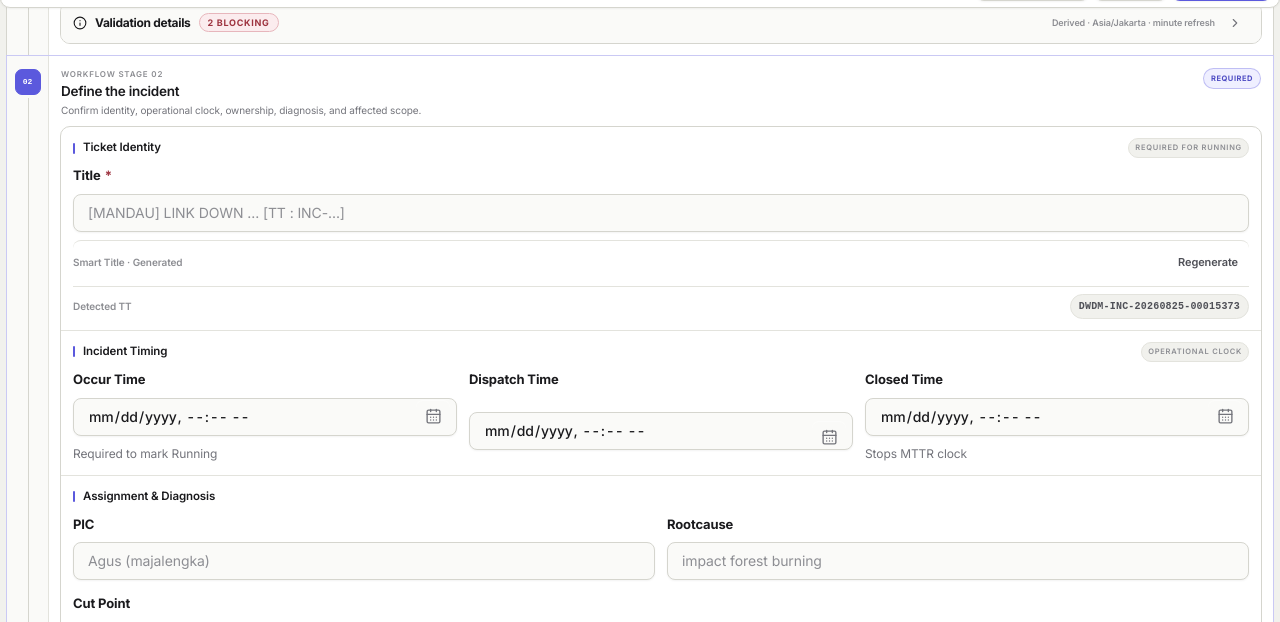
Template Generator Smart Title state › regenerates from structured metadata and switches to manual override after title editing
The image size is (1280, 622).
(page scrolled)
Expected: the text "Smart Title · Generated" is shown, [73,255,182,270]
Click the button "Regenerate" at {"x": 1208, "y": 263}, box [1167,248,1249,278]
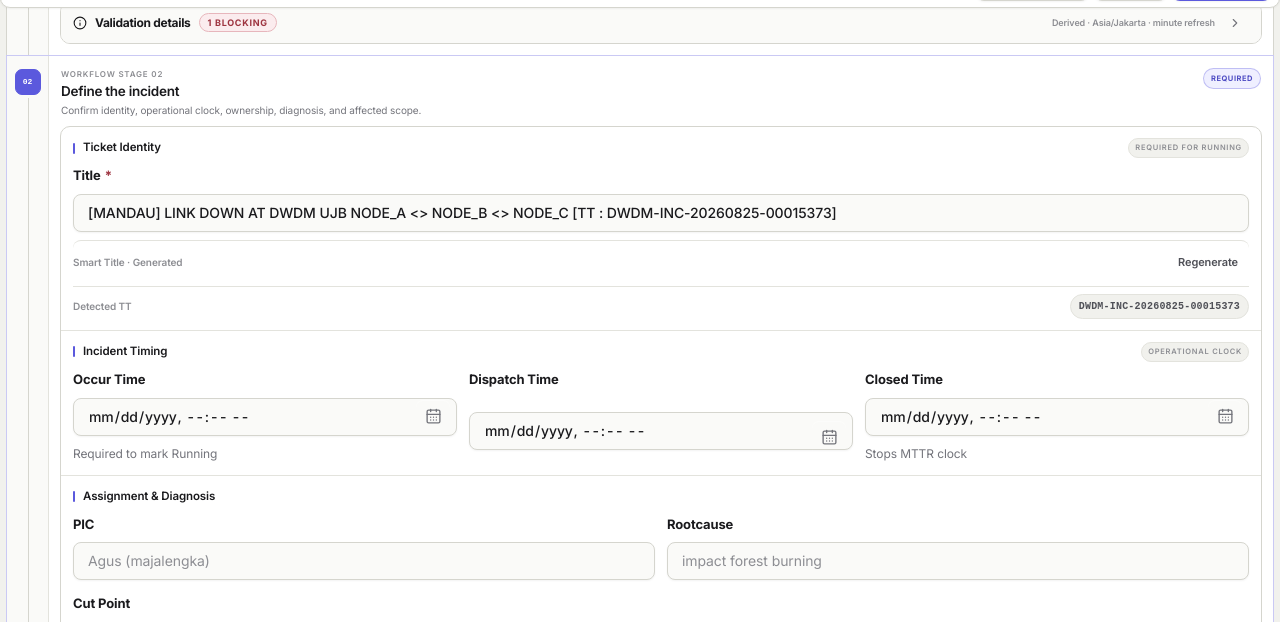
Expected: the text "Smart Title · Generated" is shown, [73,255,182,270]
Now the field labelled "Title*" holds "[MANDAU] LINK DOWN AT DWDM UJB NODE_A <> NODE_B <> NODE_C [TT : DWDM-INC-20260825-00015373]"
Replace the text in the field labelled "Title*" with "[MANDAU] MANUAL OPERATOR TITLE [TT : INC-20260826-00000054]" at {"x": 661, "y": 213}, box [73,194,1249,232]
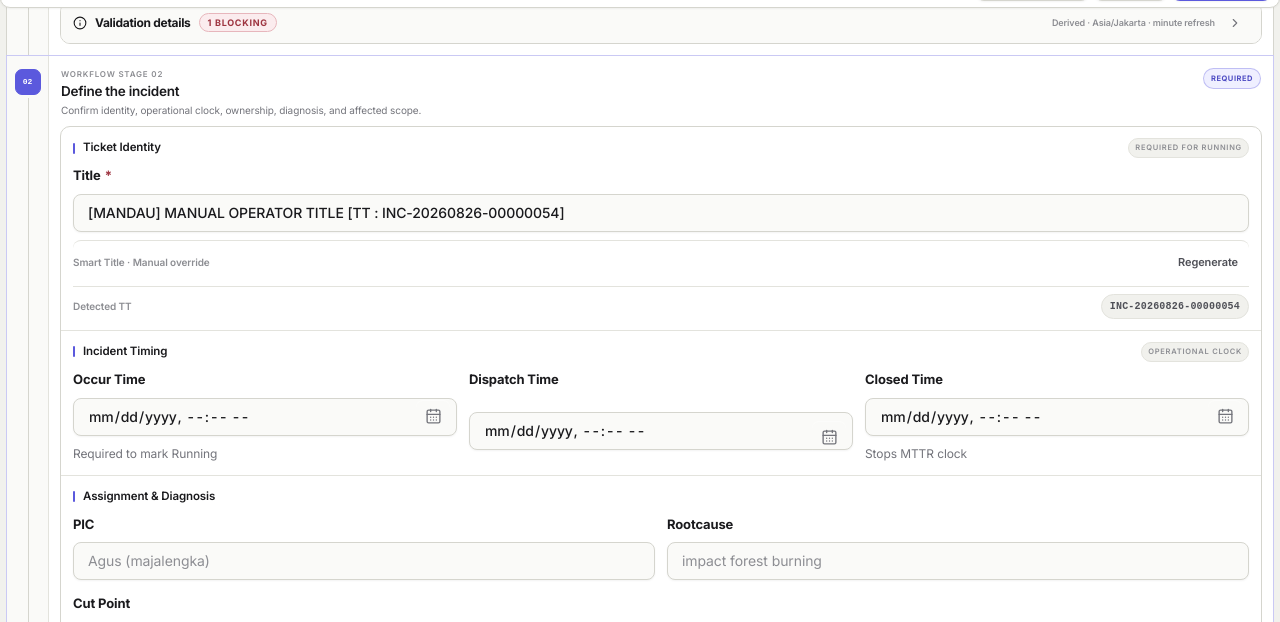
Now the text "Smart Title · Manual override" is shown, box [73,255,210,270]
Now the text "INC-20260826-00000054" in the row of "Detected TT" is shown, box [1110,301,1240,312]
